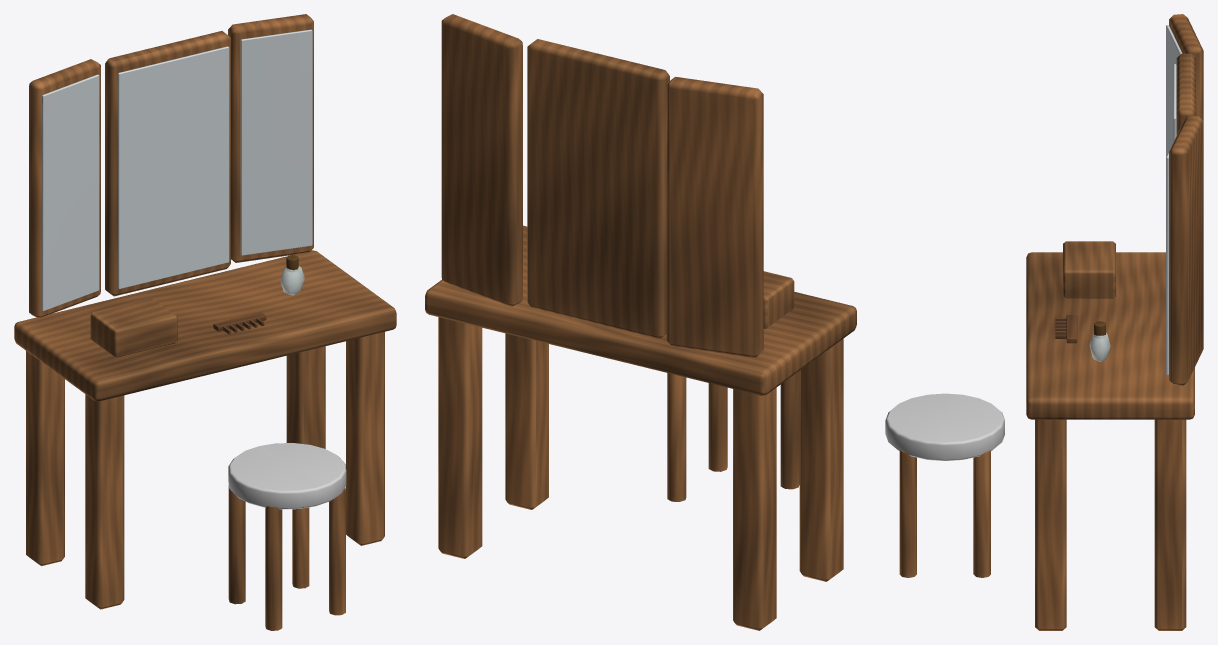
The model's file is Furn_Life_Vanity.fbx.
The picture shows the model from 3 angles, left to right: view 1: azimuth 30°, elevation 25°; view 2: azimuth 150°, elevation 25°; view 3: azimuth 270°, elevation 25°; orthographic projection. The views are drawn at different scales.
Visible parts, largest first — view 1: Furn_Life_Vanity; view 2: Furn_Life_Vanity; view 3: Furn_Life_Vanity.
Part boxes in pixels (x1,y1,x2,y2): Furn_Life_Vanity: (14,14,396,630); Furn_Life_Vanity: (425,14,856,630); Furn_Life_Vanity: (885,14,1203,630).
Bounding box in the file's own units: 1 × 1.5 × 0.9.
4 materials, 1 textured.
